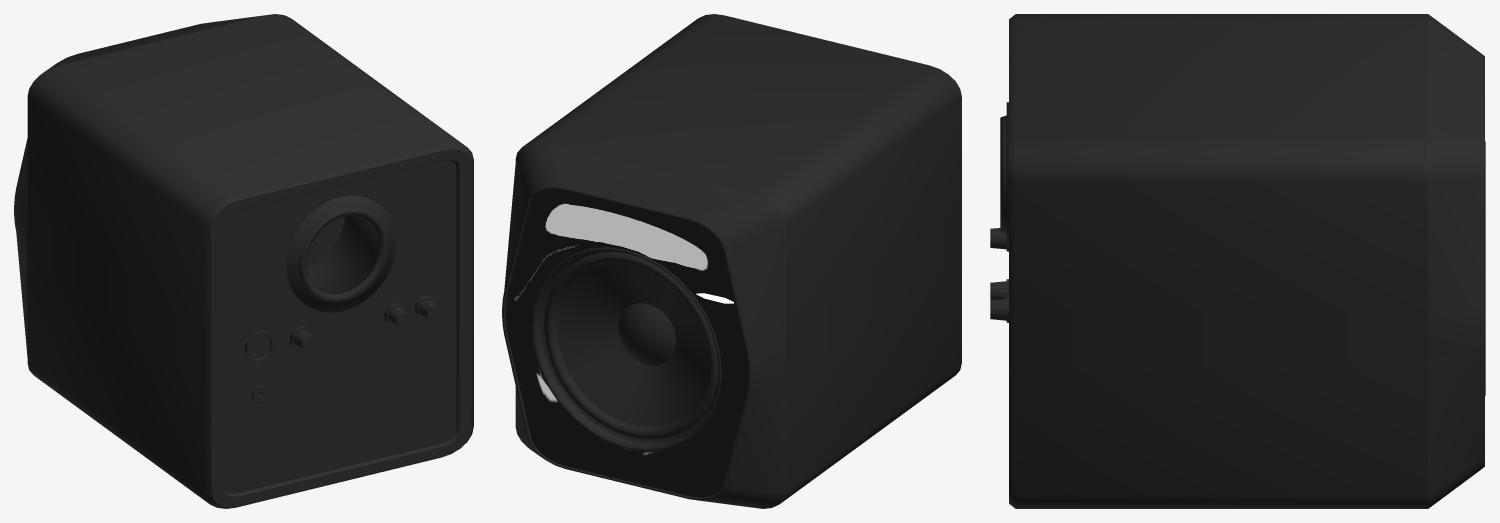
Rendered from Sub_Speaker.fbx.
3 views of the same model, side by side, from view 1: azimuth 30°, elevation 25°; view 2: azimuth 150°, elevation 25°; view 3: azimuth 270°, elevation 25° (orthographic). The views are drawn at different scales.
Parts seen in each view (by area): view 1: Cube; view 2: Cube; view 3: Cube.
Boxes of the visible parts, x1,y1,x2,y2 form: Cube: [14, 14, 473, 508]; Cube: [502, 14, 961, 508]; Cube: [990, 14, 1485, 508].
Size of the model in its own units: 20 by 22.18 by 27.16.
